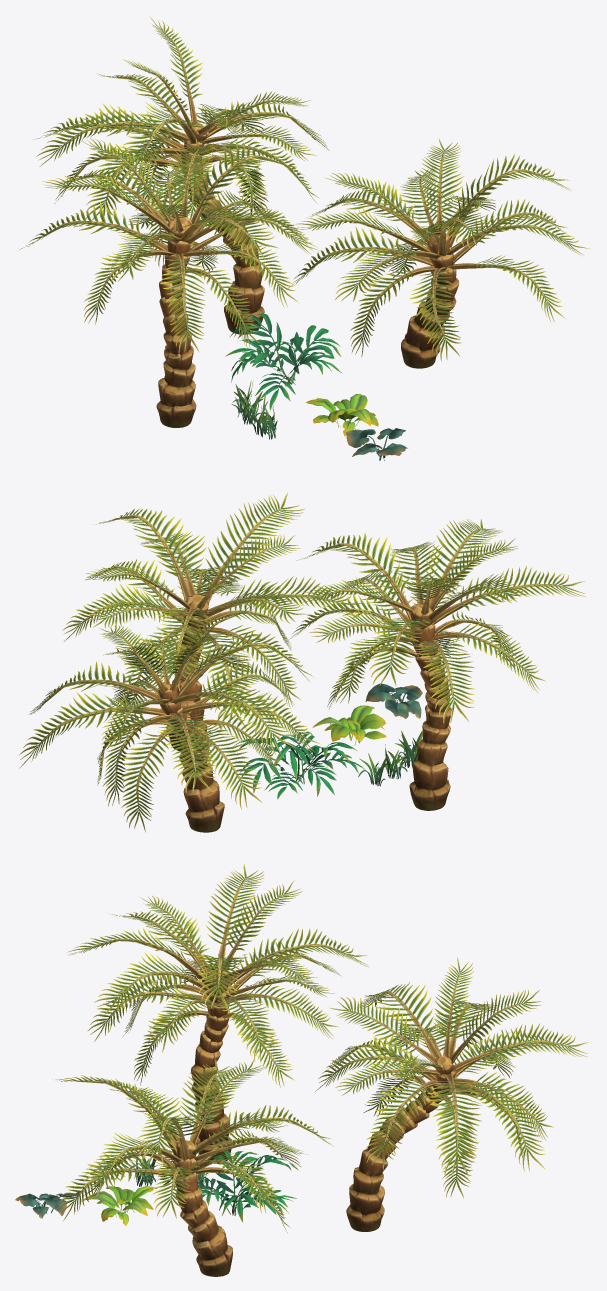
Rendered from palms.glb.
3 renders of one model, top to bottom at view 1: azimuth 30°, elevation 25°; view 2: azimuth 150°, elevation 25°; view 3: azimuth 270°, elevation 25°, orthographic. The views are drawn at different scales.
Parts seen in each view (by area): view 1: SM_DatePalm_1_M_DatePalm_Leaves_2048_0, SM_DatePalm_3_M_DatePalm_Leaves_2048_0, SM_DatePalm_2_M_DatePalm_Leaves_2048_0, SM_Vegetation_2_M_Small_Vegetation_0, SM_Vegetation_1_M_Small_Vegetation_0, SM_Vegetation_3_M_Small_Vegetation_0; view 2: SM_DatePalm_1_M_DatePalm_Leaves_2048_0, SM_DatePalm_2_M_DatePalm_Leaves_2048_0, SM_DatePalm_3_M_DatePalm_Leaves_2048_0, SM_Vegetation_2_M_Small_Vegetation_0, SM_Vegetation_1_M_Small_Vegetation_0, SM_Vegetation_3_M_Small_Vegetation_0; view 3: SM_DatePalm_2_M_DatePalm_Leaves_2048_0, SM_DatePalm_1_M_DatePalm_Leaves_2048_0, SM_DatePalm_3_M_DatePalm_Leaves_2048_0, SM_Vegetation_2_M_Small_Vegetation_0, SM_Vegetation_1_M_Small_Vegetation_0, SM_Vegetation_3_M_Small_Vegetation_0.
Part boxes in pixels (left/top/right/bottom): SM_DatePalm_1_M_DatePalm_Leaves_2048_0: left=19, top=137, right=321, bottom=427; SM_DatePalm_3_M_DatePalm_Leaves_2048_0: left=288, top=138, right=590, bottom=368; SM_DatePalm_2_M_DatePalm_Leaves_2048_0: left=32, top=16, right=329, bottom=334; SM_Vegetation_2_M_Small_Vegetation_0: left=225, top=314, right=342, bottom=410; SM_Vegetation_1_M_Small_Vegetation_0: left=305, top=394, right=378, bottom=436; SM_Vegetation_3_M_Small_Vegetation_0: left=346, top=428, right=407, bottom=460; SM_DatePalm_1_M_DatePalm_Leaves_2048_0: left=287, top=519, right=586, bottom=810; SM_DatePalm_2_M_DatePalm_Leaves_2048_0: left=19, top=605, right=320, bottom=832; SM_DatePalm_3_M_DatePalm_Leaves_2048_0: left=62, top=493, right=365, bottom=750; SM_Vegetation_2_M_Small_Vegetation_0: left=233, top=731, right=365, bottom=799; SM_Vegetation_1_M_Small_Vegetation_0: left=312, top=705, right=386, bottom=745; SM_Vegetation_3_M_Small_Vegetation_0: left=365, top=683, right=422, bottom=718; SM_DatePalm_2_M_DatePalm_Leaves_2048_0: left=315, top=957, right=589, bottom=1231; SM_DatePalm_1_M_DatePalm_Leaves_2048_0: left=67, top=864, right=368, bottom=1163; SM_DatePalm_3_M_DatePalm_Leaves_2048_0: left=55, top=1058, right=333, bottom=1276; SM_Vegetation_2_M_Small_Vegetation_0: left=198, top=1150, right=298, bottom=1222; SM_Vegetation_1_M_Small_Vegetation_0: left=83, top=1186, right=157, bottom=1225; SM_Vegetation_3_M_Small_Vegetation_0: left=15, top=1191, right=84, bottom=1218.
Bounding box in the file's own units: 9.96 × 5.18 × 10.64.
2 materials, 2 textured.
